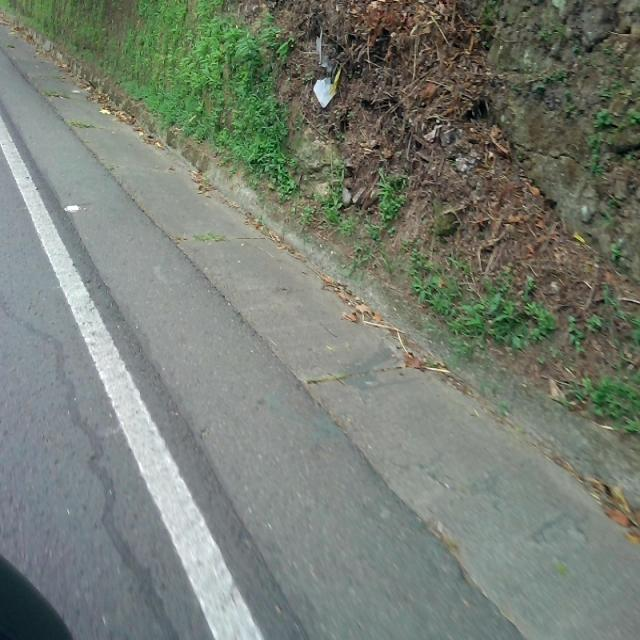DITCH: (2, 1, 638, 638), (1, 12, 638, 638), (2, 44, 638, 638)
